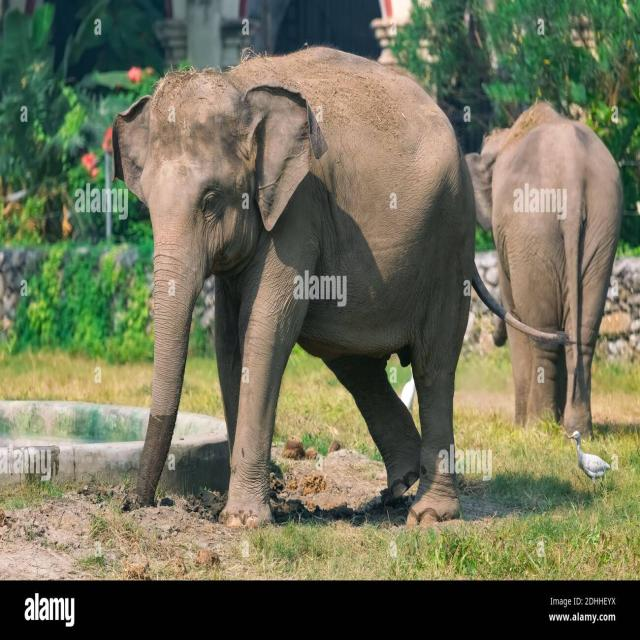Elephant: (104, 41, 484, 526), (466, 96, 625, 432)
